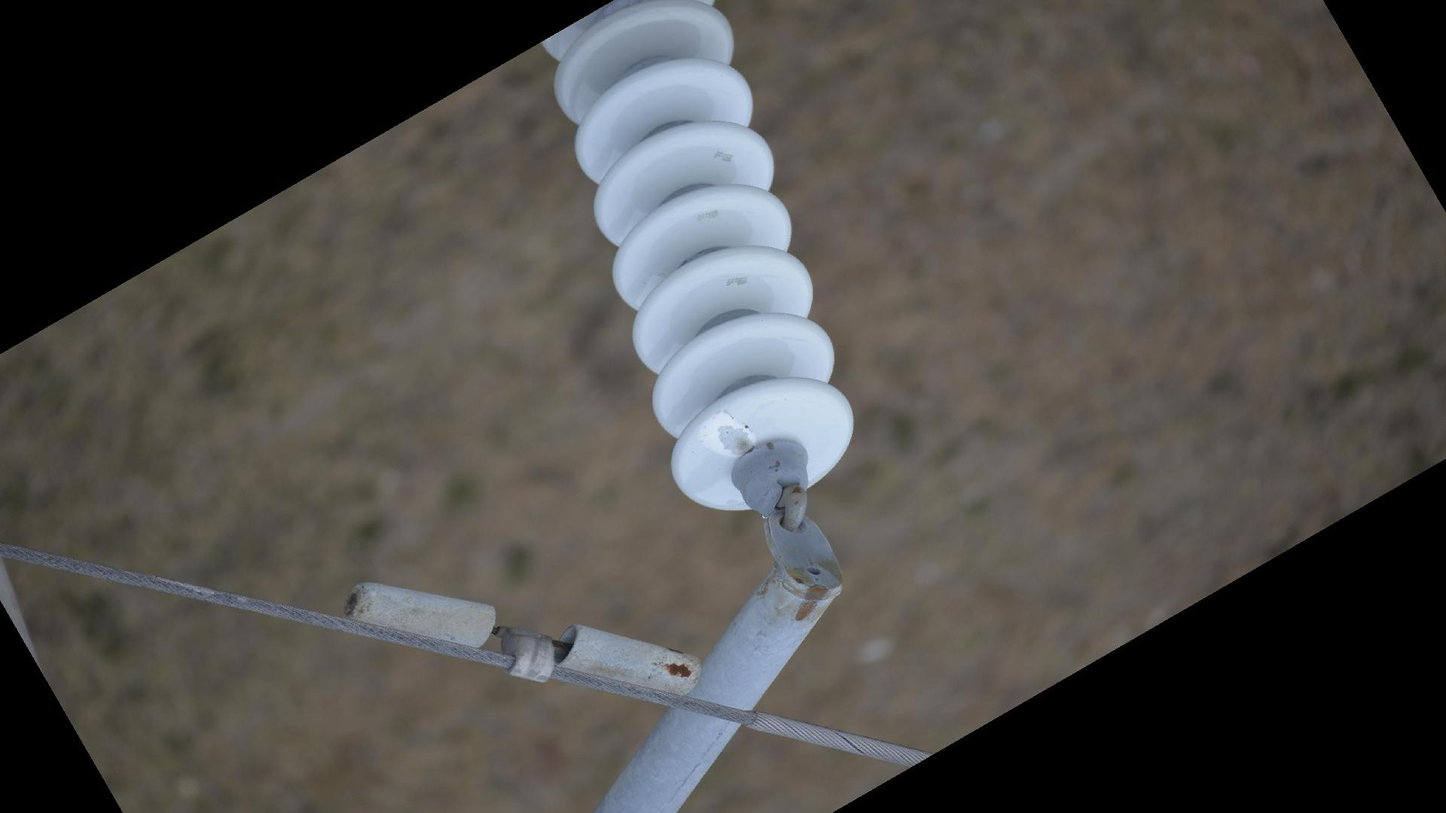insulator: (535, 1, 862, 518)
insulator_flashover: (694, 407, 758, 461)
